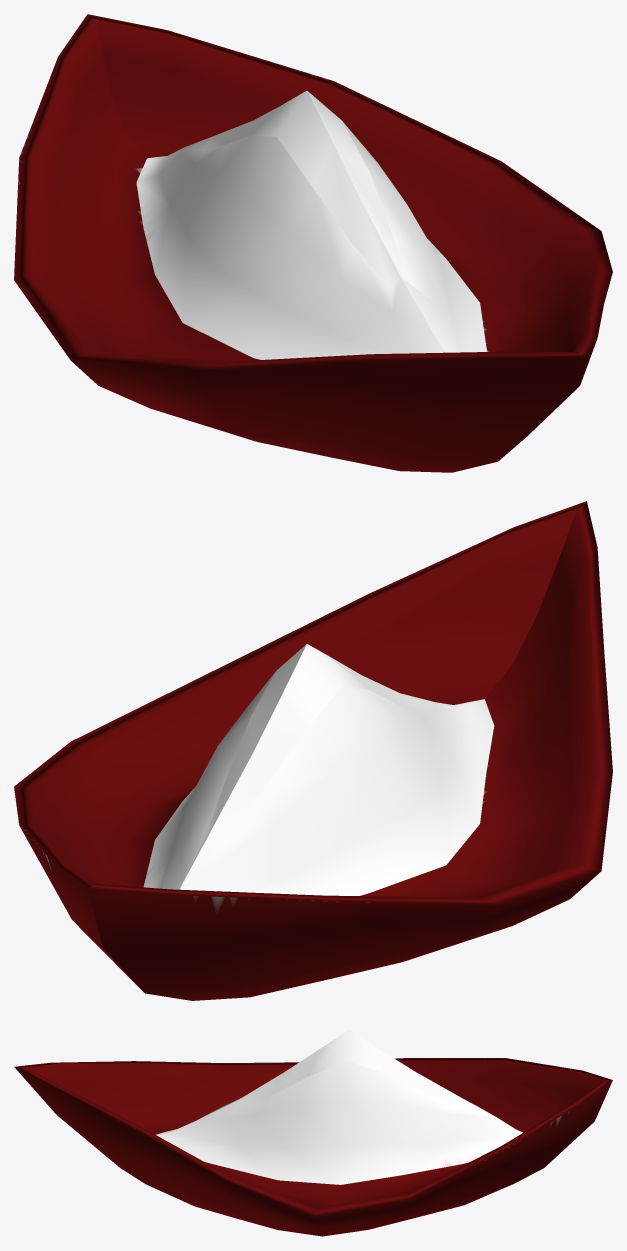
File: RedBoat.fbx
3 views of the same model, one above another, from view 1: azimuth 30°, elevation 25°; view 2: azimuth 150°, elevation 25°; view 3: azimuth 270°, elevation 25° (orthographic). The views are drawn at different scales.
Parts seen in each view (by area): view 1: polySurface1; view 2: polySurface1; view 3: polySurface1.
Part boxes in pixels (<box>): polySurface1: <box>14,14,612,472</box>; polySurface1: <box>14,501,612,1000</box>; polySurface1: <box>14,1029,612,1236</box>.
Size of the model in its own units: 111 by 59 by 181.
Materials: 1 (1 with a texture image).
